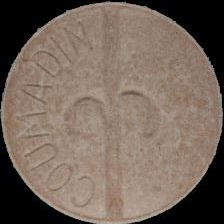55154-7716: (0, 0, 224, 224)
